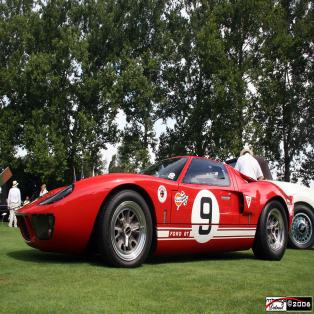Auto: (15, 154, 292, 267)
